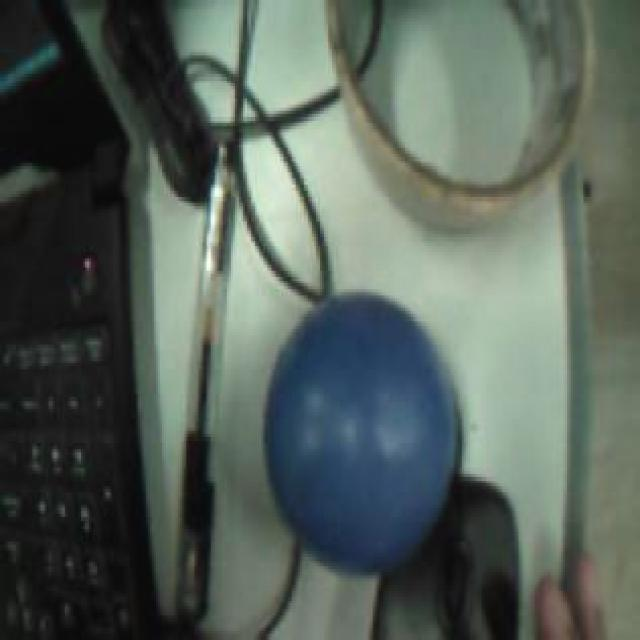BallPurple: (267, 292, 463, 575)
